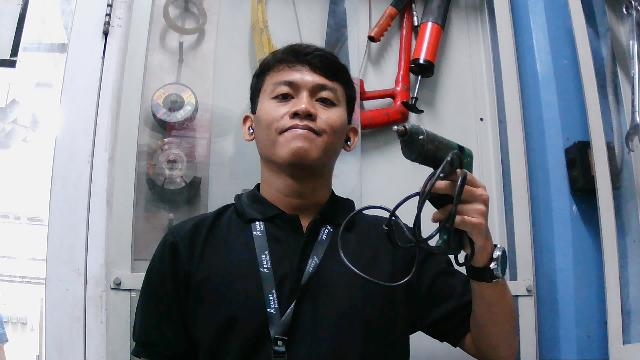gun_lem: (388, 115, 492, 262)
